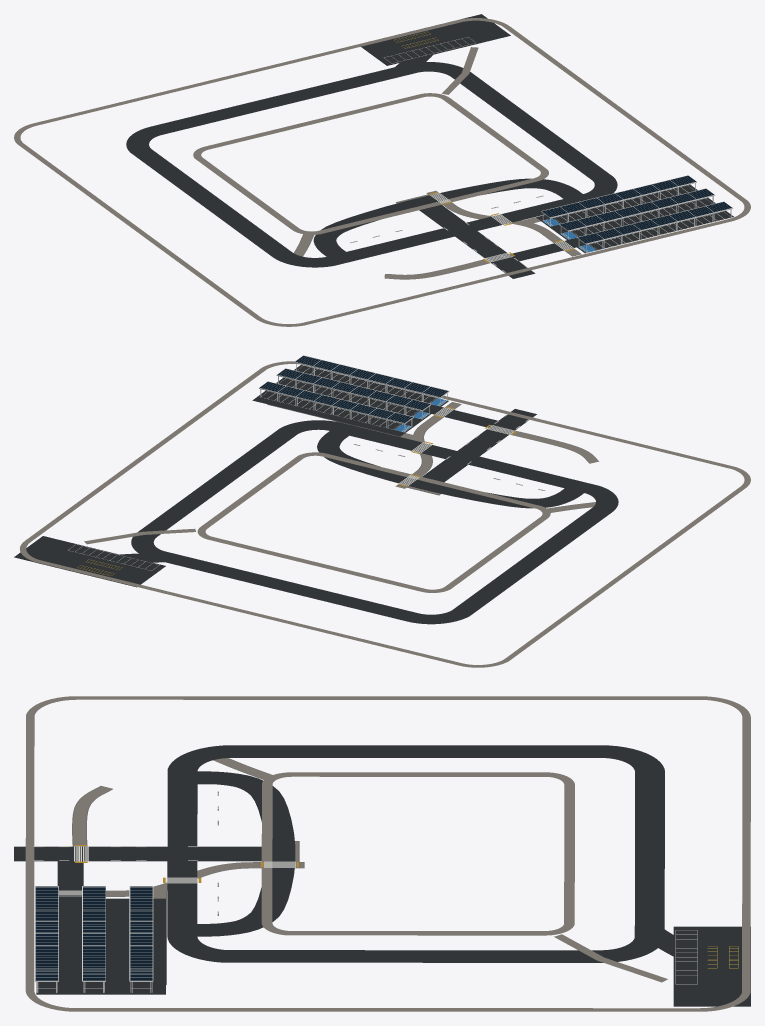
File: Hospital_SITE_CoreRoadParking_R05B.fbx
The picture shows the model from 3 angles, top to bottom: view 1: azimuth 30°, elevation 25°; view 2: azimuth 150°, elevation 25°; view 3: azimuth 270°, elevation 25°; orthographic projection. The views are drawn at different scales.
Parts seen in each view (by area): view 1: S05S_S5_EXP_CoreRoadParking_S05S_S4B_Visual_Road_TwoWayLoop, S05S_S5_EXP_CoreRoadParking_S05S_S4B_Visual_Walk_InnerPerime, S05S_S5_EXP_CoreRoadParking_S05S_S4B_Visual_Walk_HospitalPer, S05S_S5_EXP_CoreRoadParking_RefinedVisitorParkingSurface, S05S_S5_EXP_CoreRoadParking_S05S_S4B_Visual_Parking_StaffMot, S05S_S5_EXP_CoreRoadParking_RefinedDropoffRoute, S05S_S5_EXP_CoreRoadParking_S05S_S4B_Visual_Road_ArrivalBoul, S05S_S5_EXP_CoreRoadParking_RefinedVisitorParkingAccess, S05S_S5_EXP_CoreRoadParking_RefinedPathFinish_ParkingLobby, S05S_S5_EXP_CoreRoadParking_RefinedStaffParkingAccess, S05S_S5_EXP_CoreRoadParking_RefinedVisitorStandard57_Grouped, S05S_S5_EXP_CoreRoadParking_RefinedPathFinish_LakeGate; view 2: S05S_S5_EXP_CoreRoadParking_S05S_S4B_Visual_Road_TwoWayLoop, S05S_S5_EXP_CoreRoadParking_S05S_S4B_Visual_Walk_InnerPerime, S05S_S5_EXP_CoreRoadParking_RefinedVisitorParkingSurface, S05S_S5_EXP_CoreRoadParking_S05S_S4B_Visual_Walk_HospitalPer, S05S_S5_EXP_CoreRoadParking_S05S_S4B_Visual_Parking_StaffMot, S05S_S5_EXP_CoreRoadParking_RefinedDropoffRoute, S05S_S5_EXP_CoreRoadParking_S05S_S4B_Visual_Road_ArrivalBoul, S05S_S5_EXP_CoreRoadParking_RefinedVisitorParkingAccess, S05S_S5_EXP_CoreRoadParking_RefinedStaffParkingAccess, S05S_S5_EXP_CoreRoadParking_RefinedPathFinish_ParkingLobby, S05S_S5_EXP_CoreRoadParking_RefinedVisitorStandard57_Grouped; view 3: S05S_S5_EXP_CoreRoadParking_S05S_S4B_Visual_Road_TwoWayLoop, S05S_S5_EXP_CoreRoadParking_S05S_S4B_Visual_Walk_InnerPerime, S05S_S5_EXP_CoreRoadParking_RefinedVisitorParkingSurface, S05S_S5_EXP_CoreRoadParking_S05S_S4B_Visual_Walk_HospitalPer, S05S_S5_EXP_CoreRoadParking_S05S_S4B_Visual_Parking_StaffMot, S05S_S5_EXP_CoreRoadParking_RefinedDropoffRoute, S05S_S5_EXP_CoreRoadParking_S05S_S4B_Visual_Road_ArrivalBoul, S05S_S5_EXP_CoreRoadParking_RefinedVisitorParkingAccess, S05S_S5_EXP_CoreRoadParking_RefinedStaffParkingAccess, S05S_S5_EXP_CoreRoadParking_RefinedPathFinish_LakeGate, S05S_S5_EXP_CoreRoadParking_S05S_S4B_Visual_Walk_RearPublicC, S05S_S5_EXP_CoreRoadParking_RefinedPathFinish_ParkingLobby.
Part boxes in pixels (box(x1,y1,x2,y2)): S05S_S5_EXP_CoreRoadParking_S05S_S4B_Visual_Road_TwoWayLoop: box(126, 62, 617, 267); S05S_S5_EXP_CoreRoadParking_S05S_S4B_Visual_Walk_InnerPerime: box(14, 18, 750, 326); S05S_S5_EXP_CoreRoadParking_S05S_S4B_Visual_Walk_HospitalPer: box(193, 93, 548, 234); S05S_S5_EXP_CoreRoadParking_RefinedVisitorParkingSurface: box(536, 184, 733, 253); S05S_S5_EXP_CoreRoadParking_S05S_S4B_Visual_Parking_StaffMot: box(361, 14, 510, 65); S05S_S5_EXP_CoreRoadParking_RefinedDropoffRoute: box(313, 178, 585, 258); S05S_S5_EXP_CoreRoadParking_S05S_S4B_Visual_Road_ArrivalBoul: box(419, 205, 535, 278); S05S_S5_EXP_CoreRoadParking_RefinedVisitorParkingAccess: box(498, 240, 576, 263); S05S_S5_EXP_CoreRoadParking_RefinedPathFinish_ParkingLobby: box(447, 205, 580, 256); S05S_S5_EXP_CoreRoadParking_RefinedStaffParkingAccess: box(392, 48, 435, 73); S05S_S5_EXP_CoreRoadParking_RefinedVisitorStandard57_Grouped: box(557, 185, 730, 249); S05S_S5_EXP_CoreRoadParking_RefinedPathFinish_LakeGate: box(384, 259, 489, 279); S05S_S5_EXP_CoreRoadParking_S05S_S4B_Visual_Road_TwoWayLoop: box(131, 420, 618, 624); S05S_S5_EXP_CoreRoadParking_S05S_S4B_Visual_Walk_InnerPerime: box(20, 361, 750, 667); S05S_S5_EXP_CoreRoadParking_RefinedVisitorParkingSurface: box(252, 365, 448, 436); S05S_S5_EXP_CoreRoadParking_S05S_S4B_Visual_Walk_HospitalPer: box(197, 452, 550, 592); S05S_S5_EXP_CoreRoadParking_S05S_S4B_Visual_Parking_StaffMot: box(14, 536, 165, 587); S05S_S5_EXP_CoreRoadParking_RefinedDropoffRoute: box(317, 428, 587, 508); S05S_S5_EXP_CoreRoadParking_S05S_S4B_Visual_Road_ArrivalBoul: box(422, 409, 536, 482); S05S_S5_EXP_CoreRoadParking_RefinedVisitorParkingAccess: box(432, 407, 509, 430); S05S_S5_EXP_CoreRoadParking_RefinedStaffParkingAccess: box(113, 552, 170, 564); S05S_S5_EXP_CoreRoadParking_RefinedPathFinish_ParkingLobby: box(414, 402, 460, 474); S05S_S5_EXP_CoreRoadParking_RefinedVisitorStandard57_Grouped: box(261, 365, 435, 429); S05S_S5_EXP_CoreRoadParking_S05S_S4B_Visual_Road_TwoWayLoop: box(167, 745, 664, 962); S05S_S5_EXP_CoreRoadParking_S05S_S4B_Visual_Walk_InnerPerime: box(25, 696, 750, 1011); S05S_S5_EXP_CoreRoadParking_RefinedVisitorParkingSurface: box(36, 898, 165, 994); S05S_S5_EXP_CoreRoadParking_S05S_S4B_Visual_Walk_HospitalPer: box(261, 772, 574, 935); S05S_S5_EXP_CoreRoadParking_S05S_S4B_Visual_Parking_StaffMot: box(673, 926, 750, 1006); S05S_S5_EXP_CoreRoadParking_RefinedDropoffRoute: box(188, 771, 295, 936); S05S_S5_EXP_CoreRoadParking_S05S_S4B_Visual_Road_ArrivalBoul: box(14, 846, 261, 861); S05S_S5_EXP_CoreRoadParking_RefinedVisitorParkingAccess: box(57, 854, 83, 898); S05S_S5_EXP_CoreRoadParking_RefinedStaffParkingAccess: box(636, 926, 702, 959); S05S_S5_EXP_CoreRoadParking_RefinedPathFinish_LakeGate: box(73, 786, 111, 846); S05S_S5_EXP_CoreRoadParking_S05S_S4B_Visual_Walk_RearPublicC: box(554, 934, 667, 982); S05S_S5_EXP_CoreRoadParking_RefinedPathFinish_ParkingLobby: box(106, 862, 253, 896).
Size of what is drawn, in the model's own units: 174 by 3.4 by 172.
